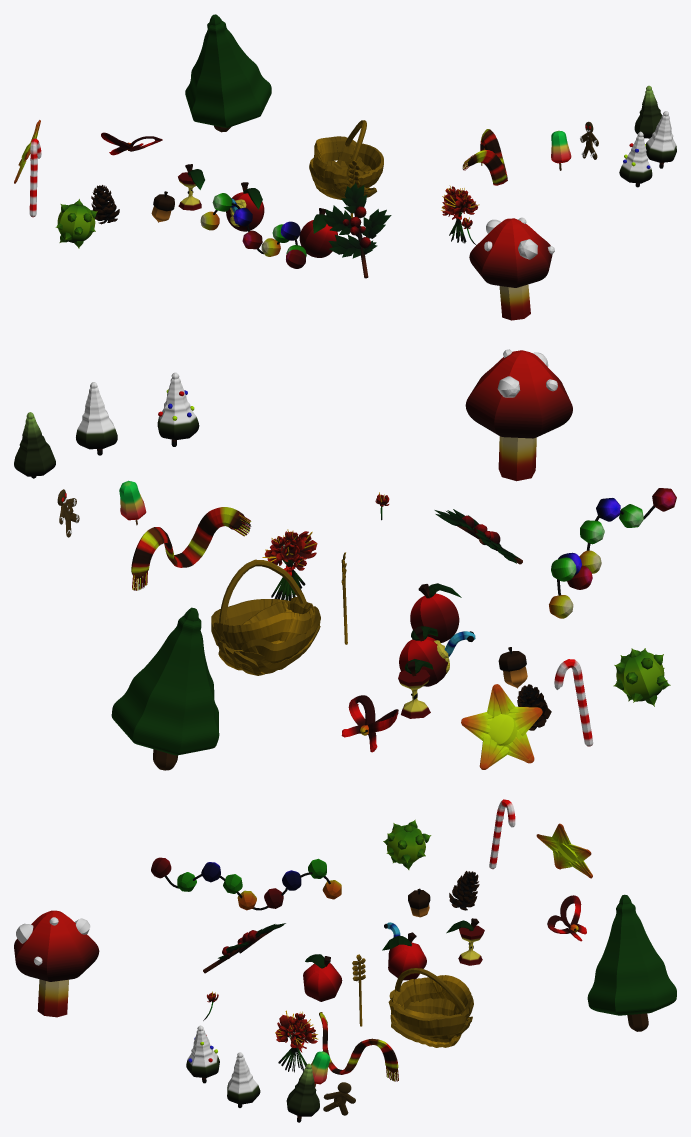
Rendered from Assetbirb.fbx.
The picture shows the model from 3 angles, top to bottom: view 1: azimuth 30°, elevation 25°; view 2: azimuth 150°, elevation 25°; view 3: azimuth 270°, elevation 25°; orthographic projection. The views are drawn at different scales.
Parts seen in each view (by area): view 1: Treexmas, Champignon, Panier, Houx, Guirlande, Chataignes, Houx2, Bouquet1, Forest1, Forest, Paindepissss, Houx3 (+7 smaller); view 2: Treexmas, Champignon, Panier, Guirlande, Etoile, Bouquet1, Chataignes, Houx3, Houx2, Paindepissss, Forest1, Forest (+8 smaller); view 3: Treexmas, Champignon, Panier, Guirlande, Houx3, Paindepissss, Chataignes, Houx2, Etoile, Bouquet1, Forest1, Forest2 (+9 smaller).
Boxes of the visible parts, bbox=[...] form: Treexmas: bbox=[185, 14, 271, 132]; Champignon: bbox=[469, 217, 554, 320]; Panier: bbox=[309, 120, 383, 199]; Houx: bbox=[322, 183, 391, 278]; Guirlande: bbox=[200, 193, 306, 268]; Chataignes: bbox=[55, 199, 97, 248]; Houx2: bbox=[299, 208, 337, 257]; Bouquet1: bbox=[462, 129, 507, 185]; Forest1: bbox=[619, 131, 652, 187]; Forest: bbox=[645, 111, 676, 168]; Paindepissss: bbox=[441, 185, 479, 243]; Houx3: bbox=[226, 182, 264, 231]; Treexmas: bbox=[111, 607, 219, 770]; Champignon: bbox=[465, 349, 572, 481]; Panier: bbox=[211, 559, 320, 675]; Guirlande: bbox=[549, 488, 676, 618]; Etoile: bbox=[461, 684, 542, 769]; Bouquet1: bbox=[131, 507, 251, 590]; Chataignes: bbox=[613, 648, 670, 706]; Houx3: bbox=[399, 626, 475, 686]; Houx2: bbox=[410, 583, 461, 642]; Paindepissss: bbox=[262, 529, 317, 600]; Forest1: bbox=[157, 372, 199, 446]; Forest: bbox=[76, 382, 117, 455]; Treexmas: bbox=[587, 894, 676, 1031]; Champignon: bbox=[14, 910, 99, 1017]; Panier: bbox=[388, 968, 473, 1047]; Guirlande: bbox=[151, 857, 341, 910]; Houx3: bbox=[382, 922, 426, 980]; Paindepissss: bbox=[275, 1010, 318, 1072]; Chataignes: bbox=[383, 819, 431, 869]; Houx2: bbox=[303, 954, 342, 1001]; Etoile: bbox=[536, 823, 592, 878]; Bouquet1: bbox=[319, 1012, 398, 1081]; Forest1: bbox=[186, 1025, 219, 1083]; Forest2: bbox=[286, 1063, 319, 1122].
Bounding box in the file's own units: 9.19 × 2.04 × 9.15.
